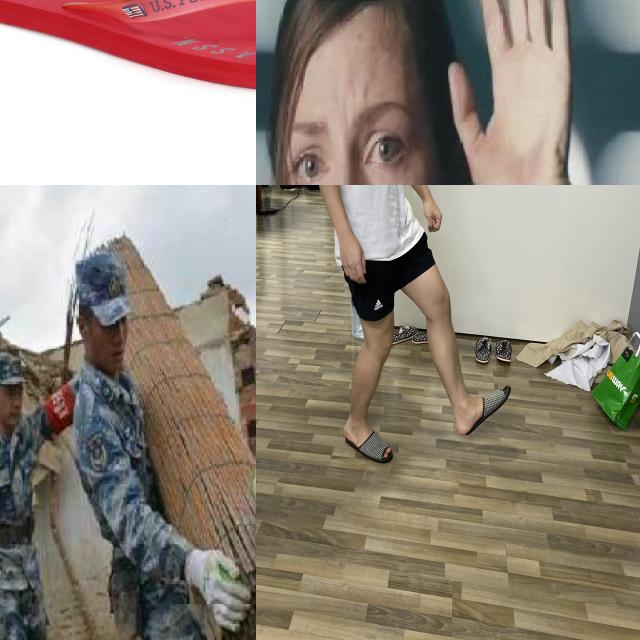No_Glasses: (269, 102, 416, 185)
Sandals: (0, 0, 256, 97), (343, 397, 394, 464), (449, 385, 512, 435)
face_nomask: (257, 51, 431, 185), (89, 301, 133, 377), (0, 383, 26, 429)
hand_glove: (195, 545, 250, 632)
hand_noglove: (445, 0, 579, 185)
head_nohelmet: (269, 0, 437, 43), (69, 249, 135, 317), (0, 350, 29, 390)
person: (58, 243, 256, 640), (256, 0, 640, 185), (0, 349, 74, 640)
